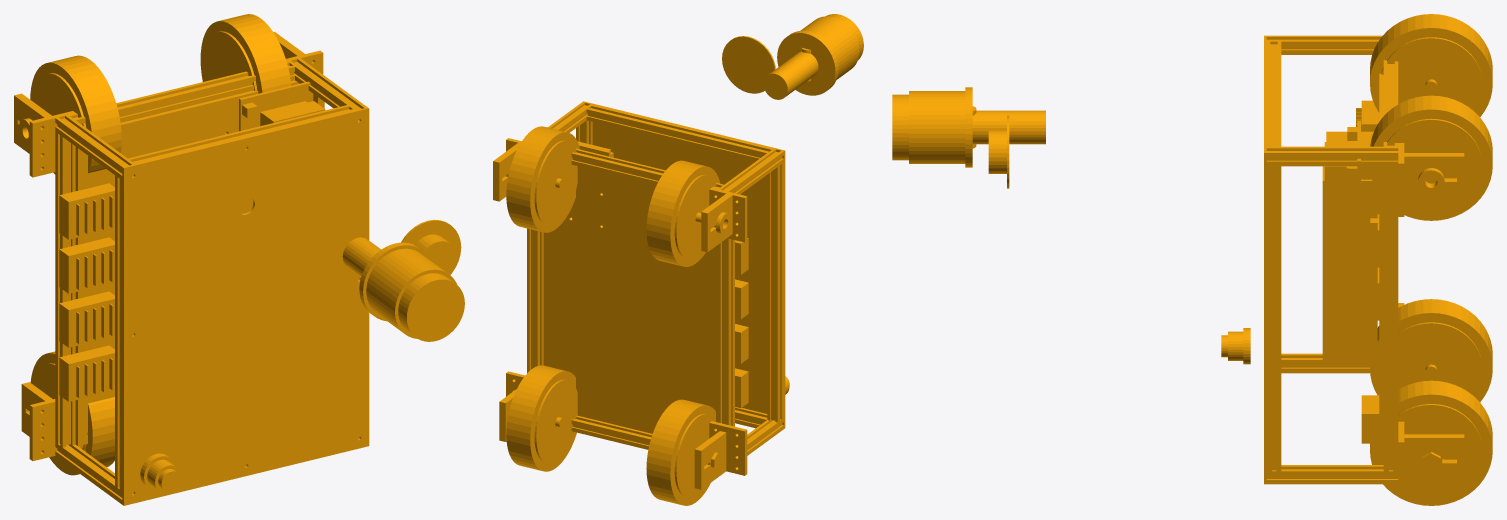
Rendered from bvr1_assembly.glb.
3 views of the same model, side by side, from view 1: azimuth 30°, elevation 25°; view 2: azimuth 150°, elevation 25°; view 3: azimuth 270°, elevation 25° (orthographic). The views are drawn at different scales.
Visible parts, largest first — view 1: bar-diff-diff-union-union-union-union-union-union-union-unio; view 2: bar-diff-diff-union-union-union-union-union-union-union-unio; view 3: bar-diff-diff-union-union-union-union-union-union-union-unio.
Part boxes in pixels (<box>): bar-diff-diff-union-union-union-union-union-union-union-unio: <box>14,14,464,505</box>; bar-diff-diff-union-union-union-union-union-union-union-unio: <box>493,14,863,505</box>; bar-diff-diff-union-union-union-union-union-union-union-unio: <box>892,14,1492,505</box>.
Size of the model in its own units: 450 by 598 by 821.
